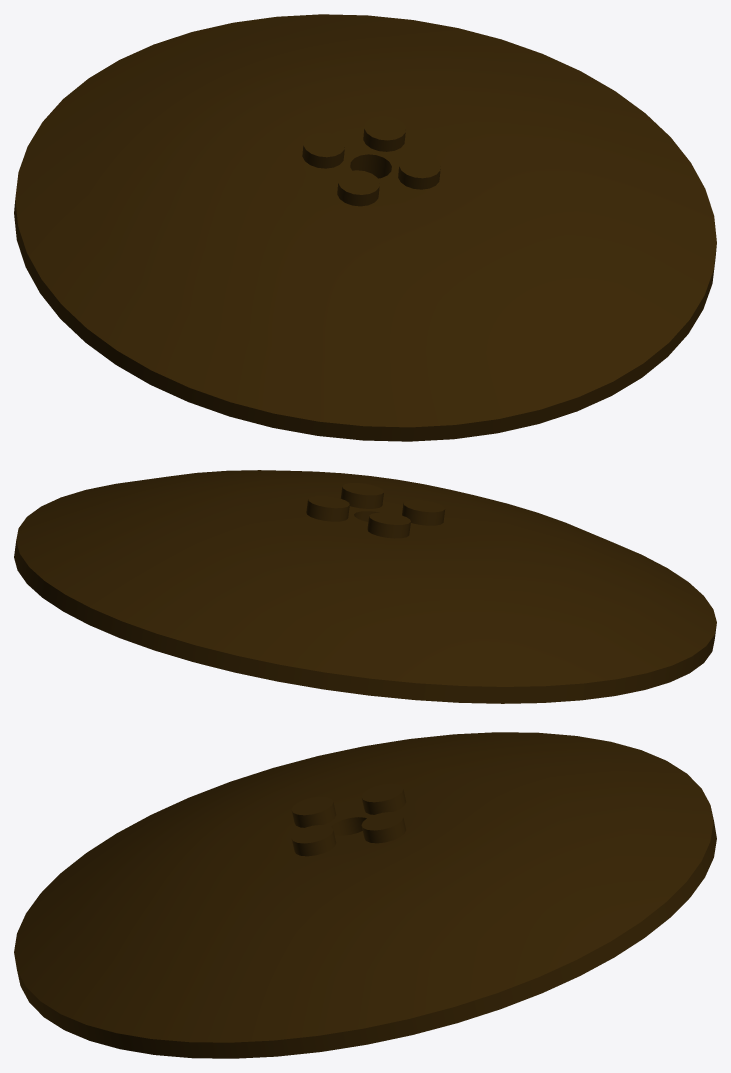
The model's file is 50990b_dish_10x10.glb.
The picture shows the model from 3 angles, top to bottom: view 1: azimuth 30°, elevation 25°; view 2: azimuth 150°, elevation 25°; view 3: azimuth 270°, elevation 25°; orthographic projection.
Parts seen in each view (by area): view 1: 50990b.dat; view 2: 50990b.dat; view 3: 50990b.dat.
Boxes of the visible parts, x1,y1,x2,y2 form: 50990b.dat: (14, 14, 716, 441); 50990b.dat: (14, 470, 716, 703); 50990b.dat: (14, 732, 716, 1058).
Size of the model in its own units: 3.48 by 0.8865 by 3.43.
